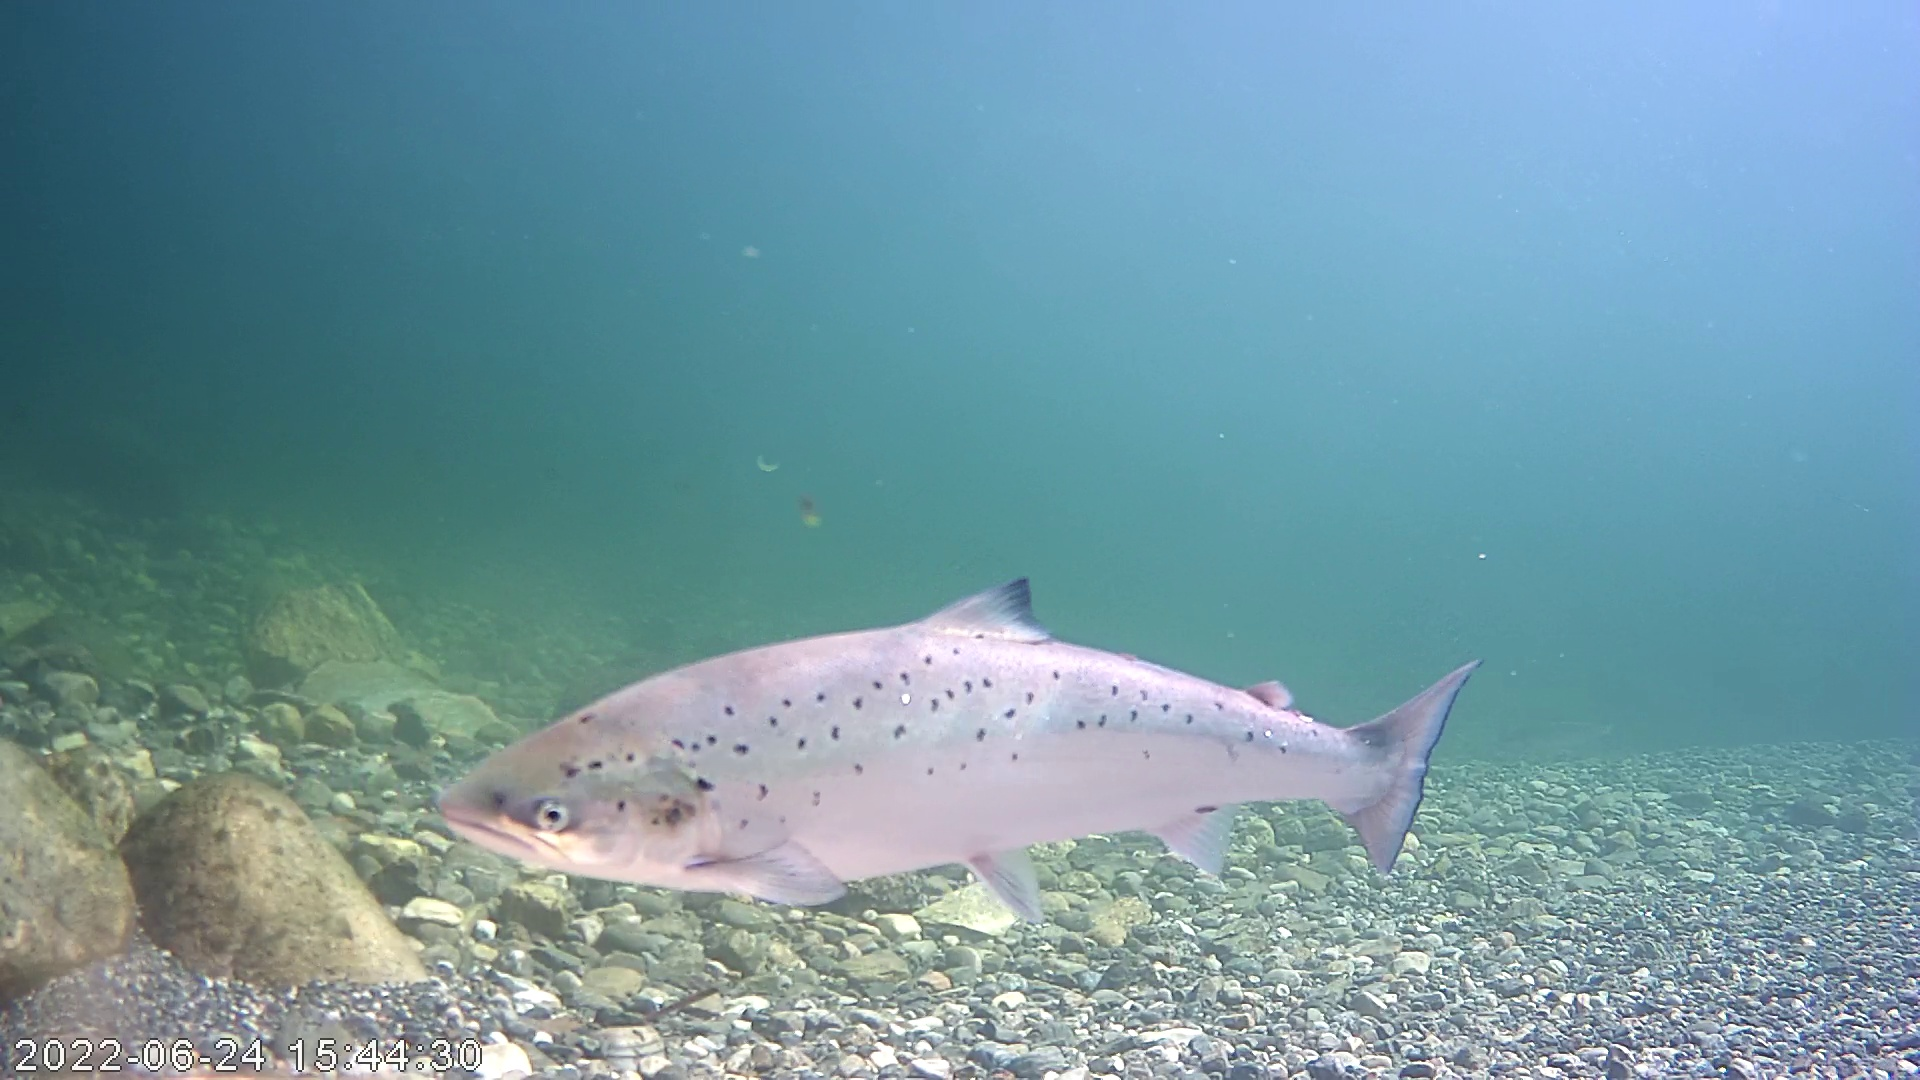salmon: (435, 578, 1487, 927)
